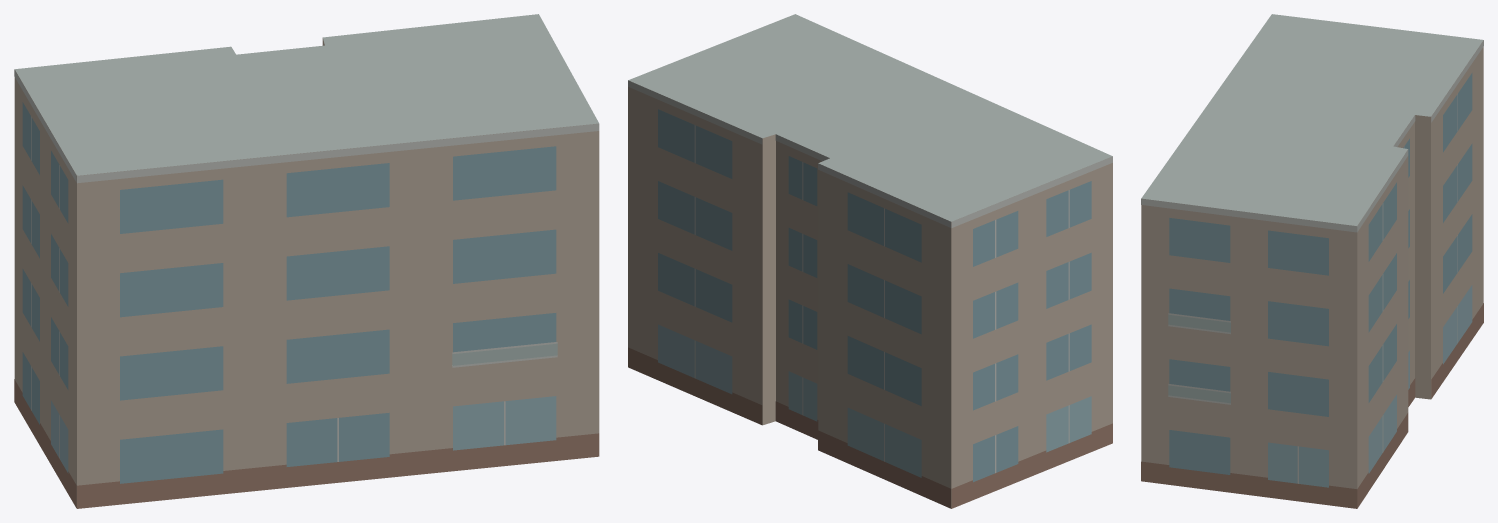
File: survey-upis-32880234.glb
3 views of the same model, side by side, from view 1: azimuth 30°, elevation 25°; view 2: azimuth 150°, elevation 25°; view 3: azimuth 270°, elevation 25° (orthographic). The views are drawn at different scales.
Visible parts, largest first — view 1: survey-upis-32880234.tmp; view 2: survey-upis-32880234.tmp; view 3: survey-upis-32880234.tmp.
Boxes of the visible parts, <box> form: survey-upis-32880234.tmp: <box>14,14,599,508</box>; survey-upis-32880234.tmp: <box>628,14,1112,508</box>; survey-upis-32880234.tmp: <box>1141,14,1483,508</box>.
Size of the model in its own units: 17.55 by 10.9 by 11.98.
